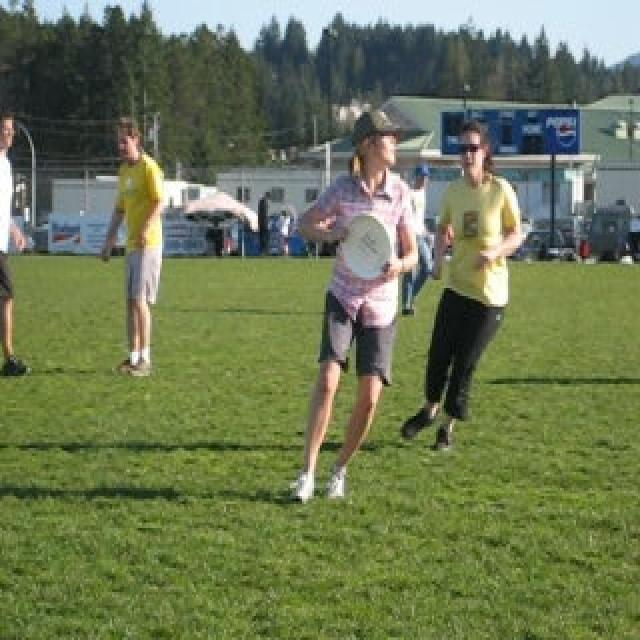Vehicle: (514, 228, 578, 262)
